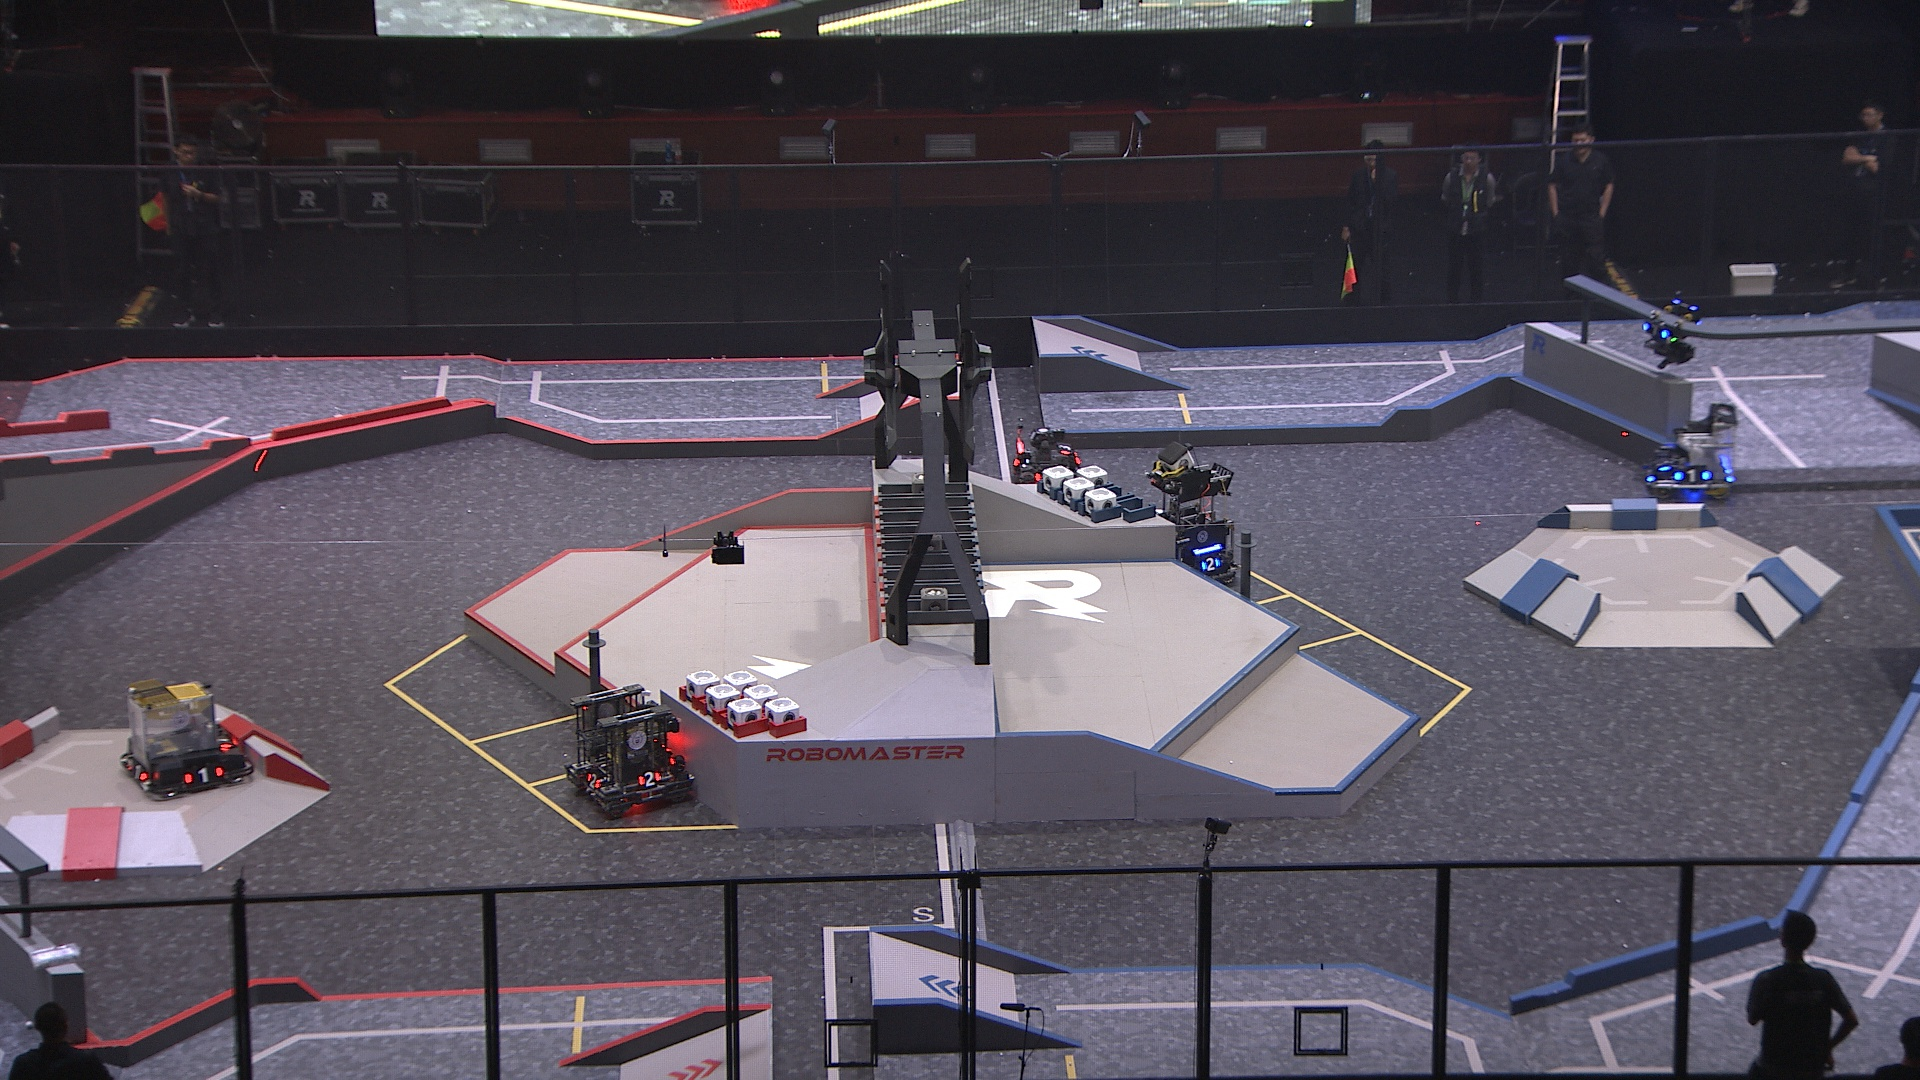armor: (182, 764, 228, 787), (1673, 463, 1713, 485), (1640, 316, 1671, 343), (211, 728, 237, 754), (636, 767, 665, 789), (125, 761, 150, 785), (583, 769, 604, 793), (1197, 553, 1220, 572), (1055, 438, 1073, 458), (1654, 455, 1673, 472)
car: (115, 670, 272, 803), (556, 678, 705, 816), (1135, 452, 1236, 589), (1007, 422, 1097, 504), (1642, 425, 1735, 502)
watcher: (1636, 287, 1705, 371)
